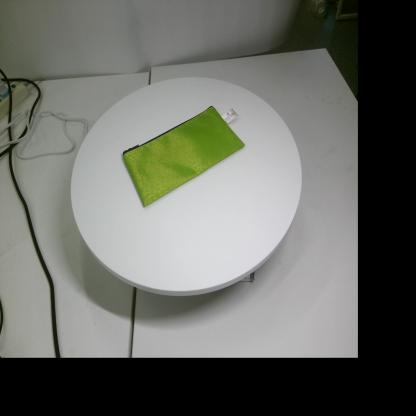Stationery: (122, 106, 245, 206)
